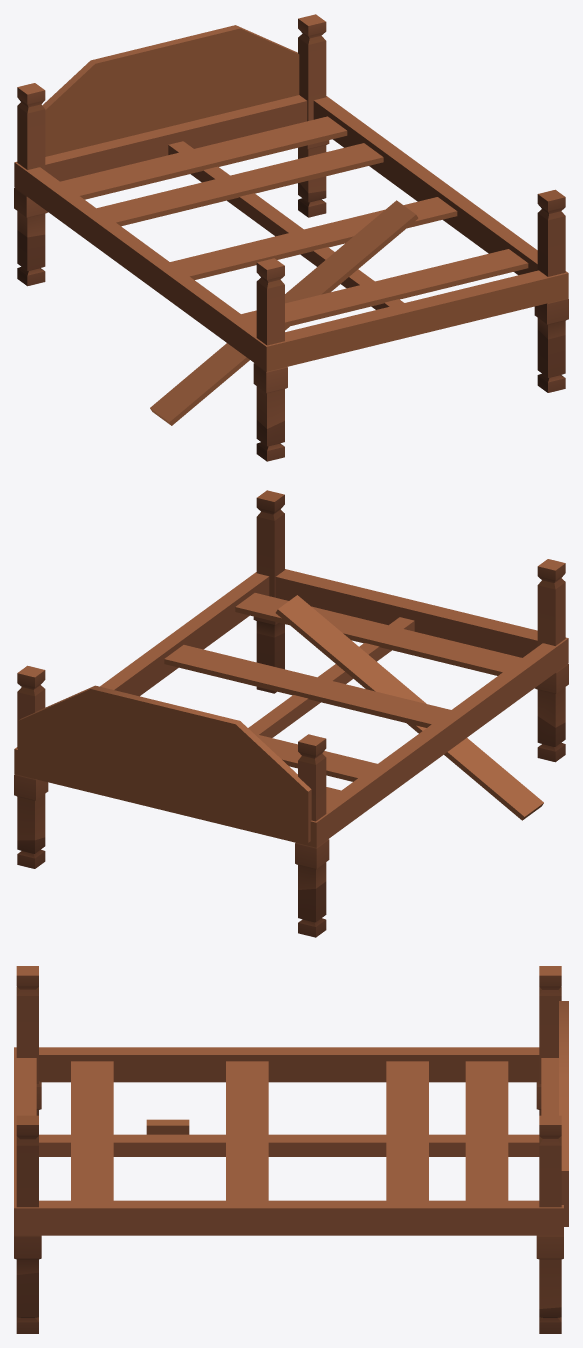
The model's file is AI_Prop_BedFrame.fbx.
3 renders of one model, top to bottom at view 1: azimuth 30°, elevation 25°; view 2: azimuth 150°, elevation 25°; view 3: azimuth 270°, elevation 25°, orthographic. The views are drawn at different scales.
Parts seen in each view (by area): view 1: AI_Prop_BedFrame; view 2: AI_Prop_BedFrame; view 3: AI_Prop_BedFrame.
Part boxes in pixels (x1,y1,x2,y2): AI_Prop_BedFrame: (14, 14, 568, 461); AI_Prop_BedFrame: (14, 490, 568, 937); AI_Prop_BedFrame: (14, 966, 568, 1333).
Size of the model in its own units: 2.99 by 1.66 by 3.89.
